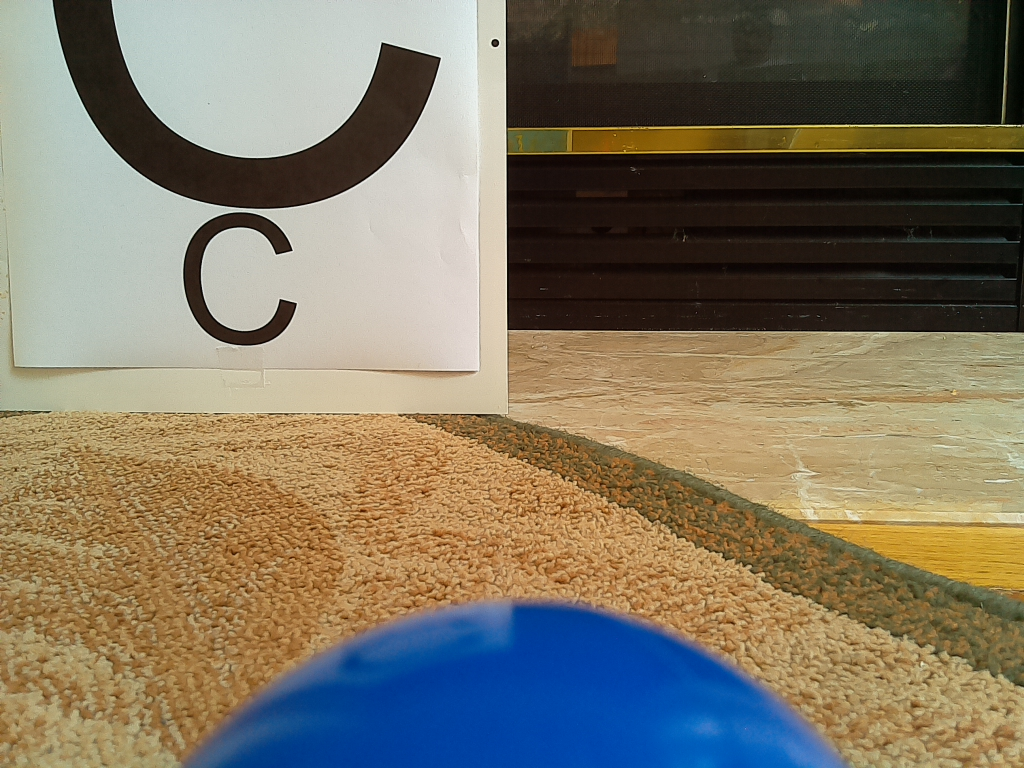letter: (184, 212, 296, 344)
